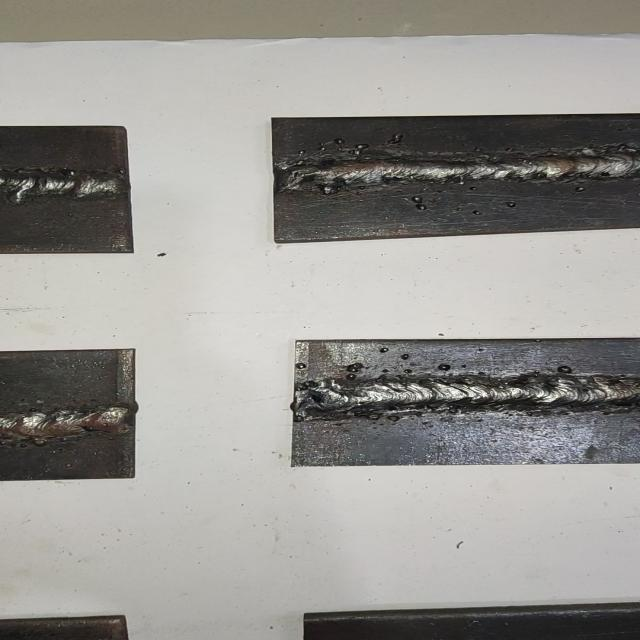Defect: (300, 357, 578, 381), (304, 133, 421, 156), (405, 190, 464, 213)
Welding Line: (294, 375, 640, 417), (283, 152, 640, 185), (0, 407, 126, 437), (0, 172, 118, 198)
Workpiece: (265, 112, 640, 245), (288, 335, 640, 468), (0, 346, 143, 484), (0, 122, 138, 256)
